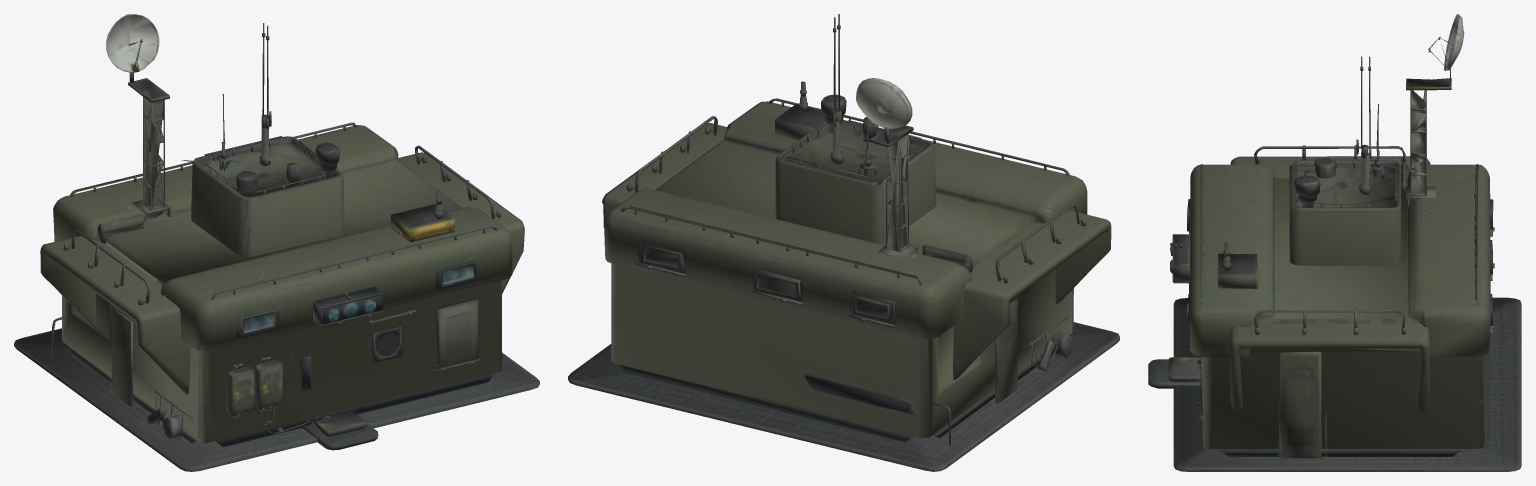
File: h_comms.glb
The picture shows the model from 3 angles, left to right: view 1: azimuth 30°, elevation 25°; view 2: azimuth 150°, elevation 25°; view 3: azimuth 270°, elevation 25°; orthographic projection. The views are drawn at different scales.
Bounding box in the file's own units: 0.9575 × 0.7945 × 0.8174.
1 material, 1 textured.
